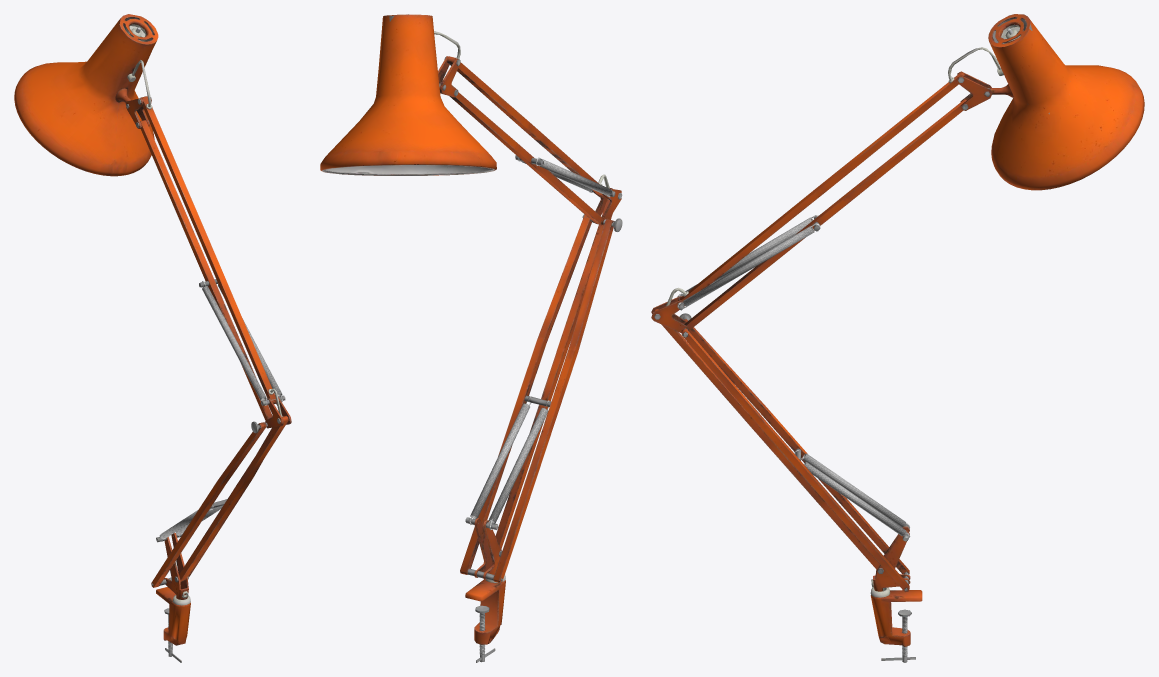
File: desk_lamp_arm_01.glb
The picture shows the model from 3 angles, left to right: view 1: azimuth 30°, elevation 25°; view 2: azimuth 150°, elevation 25°; view 3: azimuth 270°, elevation 25°; orthographic projection. The views are drawn at different scales.
Visible parts, largest first — view 1: desk_lamp_arm_01; view 2: desk_lamp_arm_01; view 3: desk_lamp_arm_01.
Part boxes in pixels (bbox=[...]): desk_lamp_arm_01: bbox=[14, 14, 291, 662]; desk_lamp_arm_01: bbox=[320, 14, 622, 662]; desk_lamp_arm_01: bbox=[651, 14, 1144, 662].
Size of the model in its own units: 0.2017 by 0.8926 by 0.6139.
2 materials, 2 textured.
